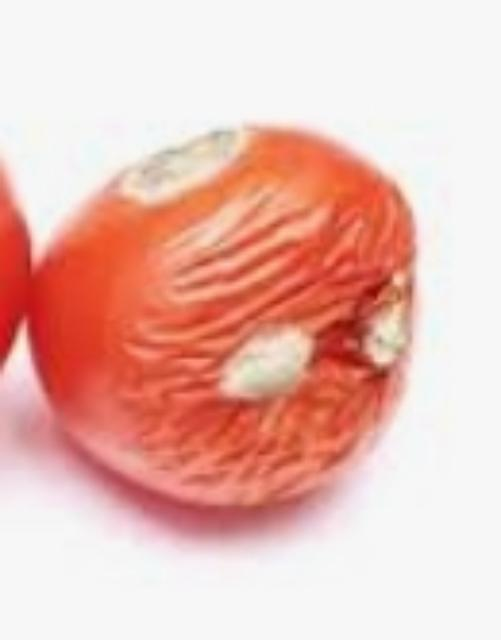defect: (30, 116, 421, 510)
